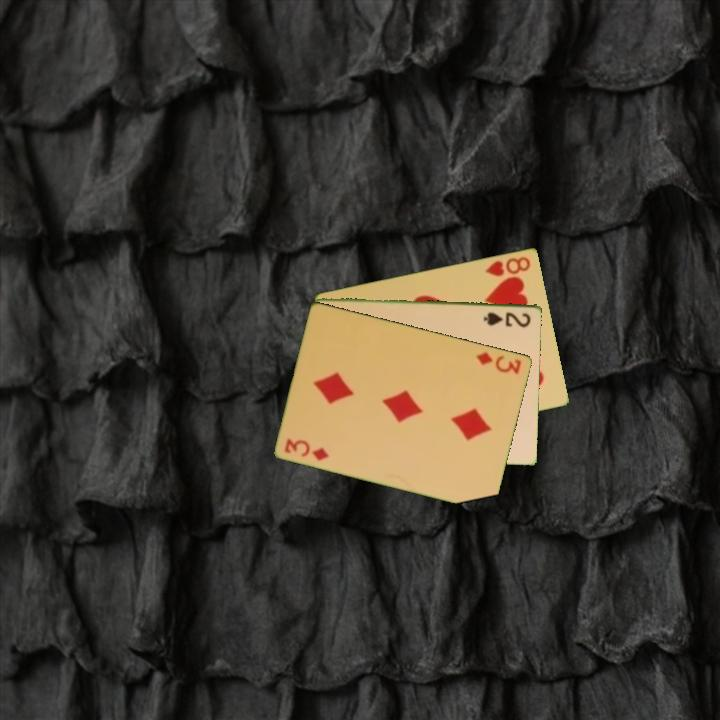2s: (481, 308, 534, 329)
3d: (281, 434, 332, 463), (473, 348, 524, 376)
8h: (482, 253, 534, 279)
